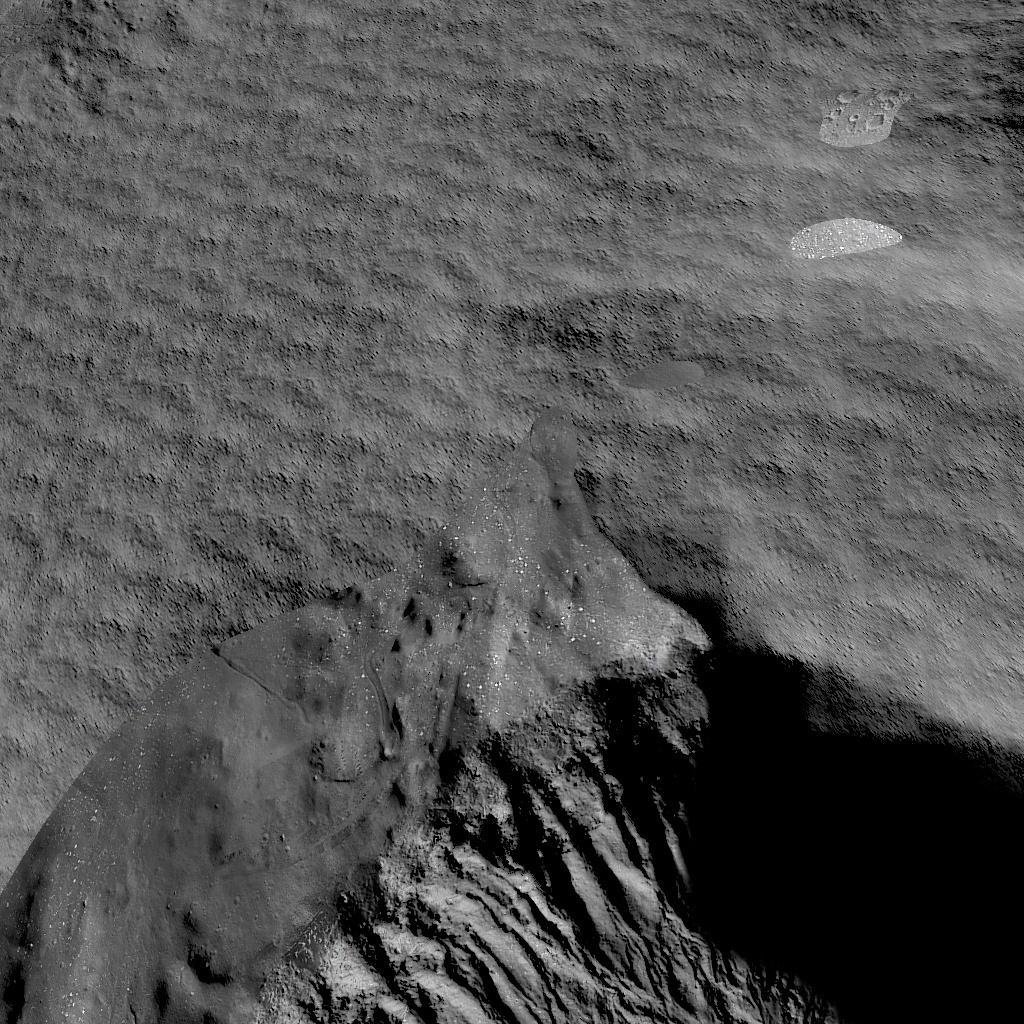Crater: (0, 495, 1024, 1024)
Plan surface: (0, 0, 1024, 483)
